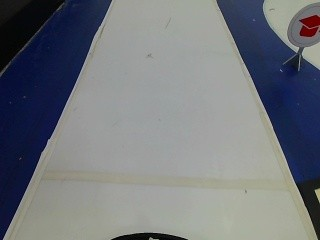school: (289, 4, 318, 53)
